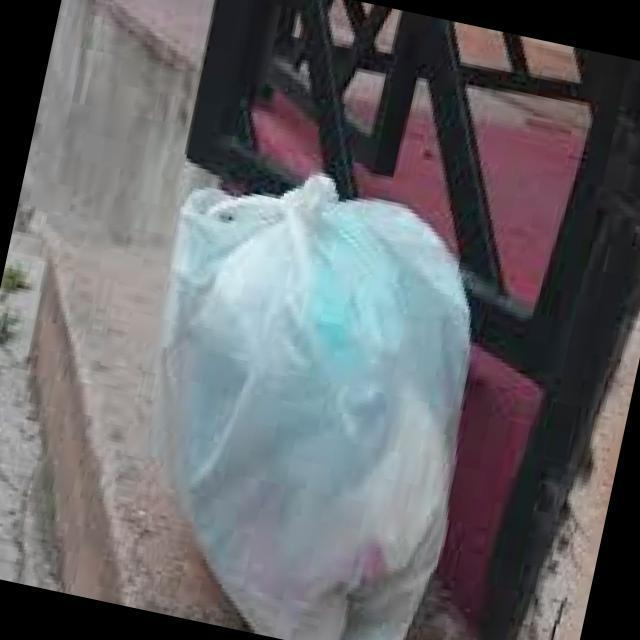garbage: (73, 126, 524, 640)
